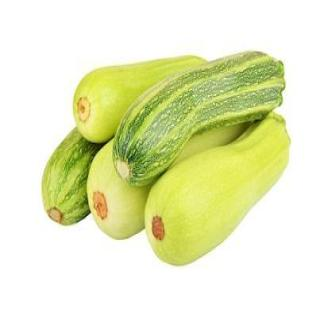Zucchini: (114, 52, 285, 184), (146, 113, 289, 265), (74, 57, 205, 142), (87, 141, 151, 238), (43, 129, 101, 224)
